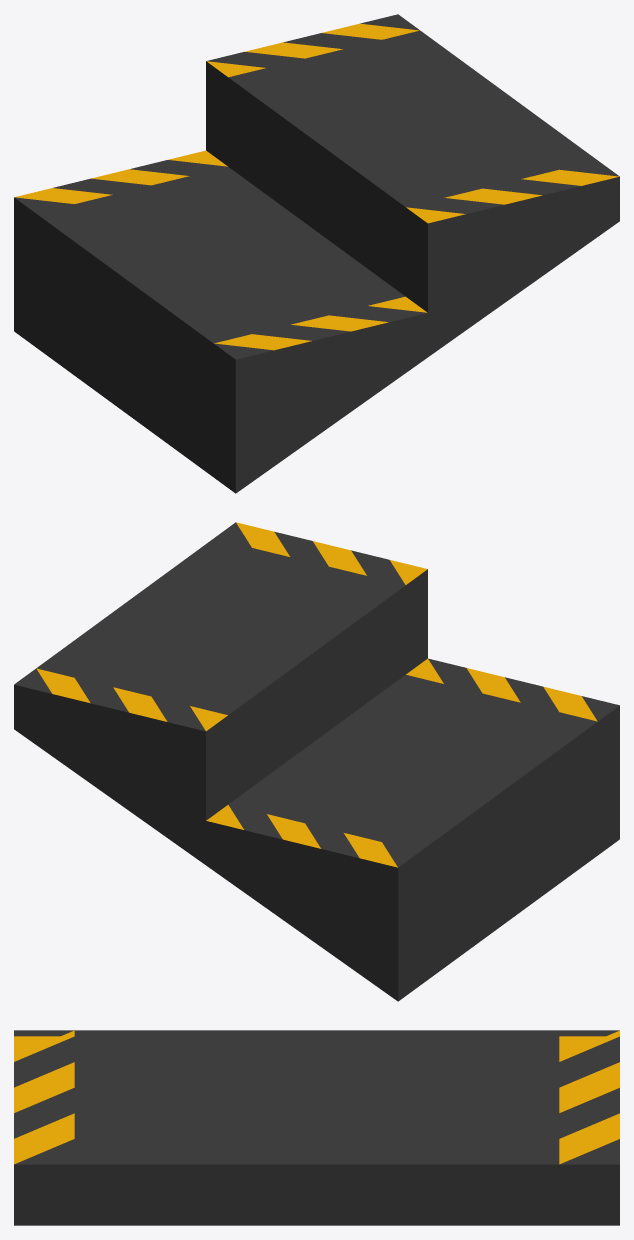
The picture shows the model from 3 angles, top to bottom: view 1: azimuth 30°, elevation 25°; view 2: azimuth 150°, elevation 25°; view 3: azimuth 270°, elevation 25°; orthographic projection. The views are drawn at different scales.
Visible parts, largest first — view 1: s2; view 2: s2; view 3: s2.
Part boxes in pixels (x1,y1,x2,y2): s2: (14, 14, 619, 493); s2: (14, 522, 619, 1001); s2: (14, 1030, 619, 1225).
Bounding box in the file's own units: 9 × 5 × 9.
